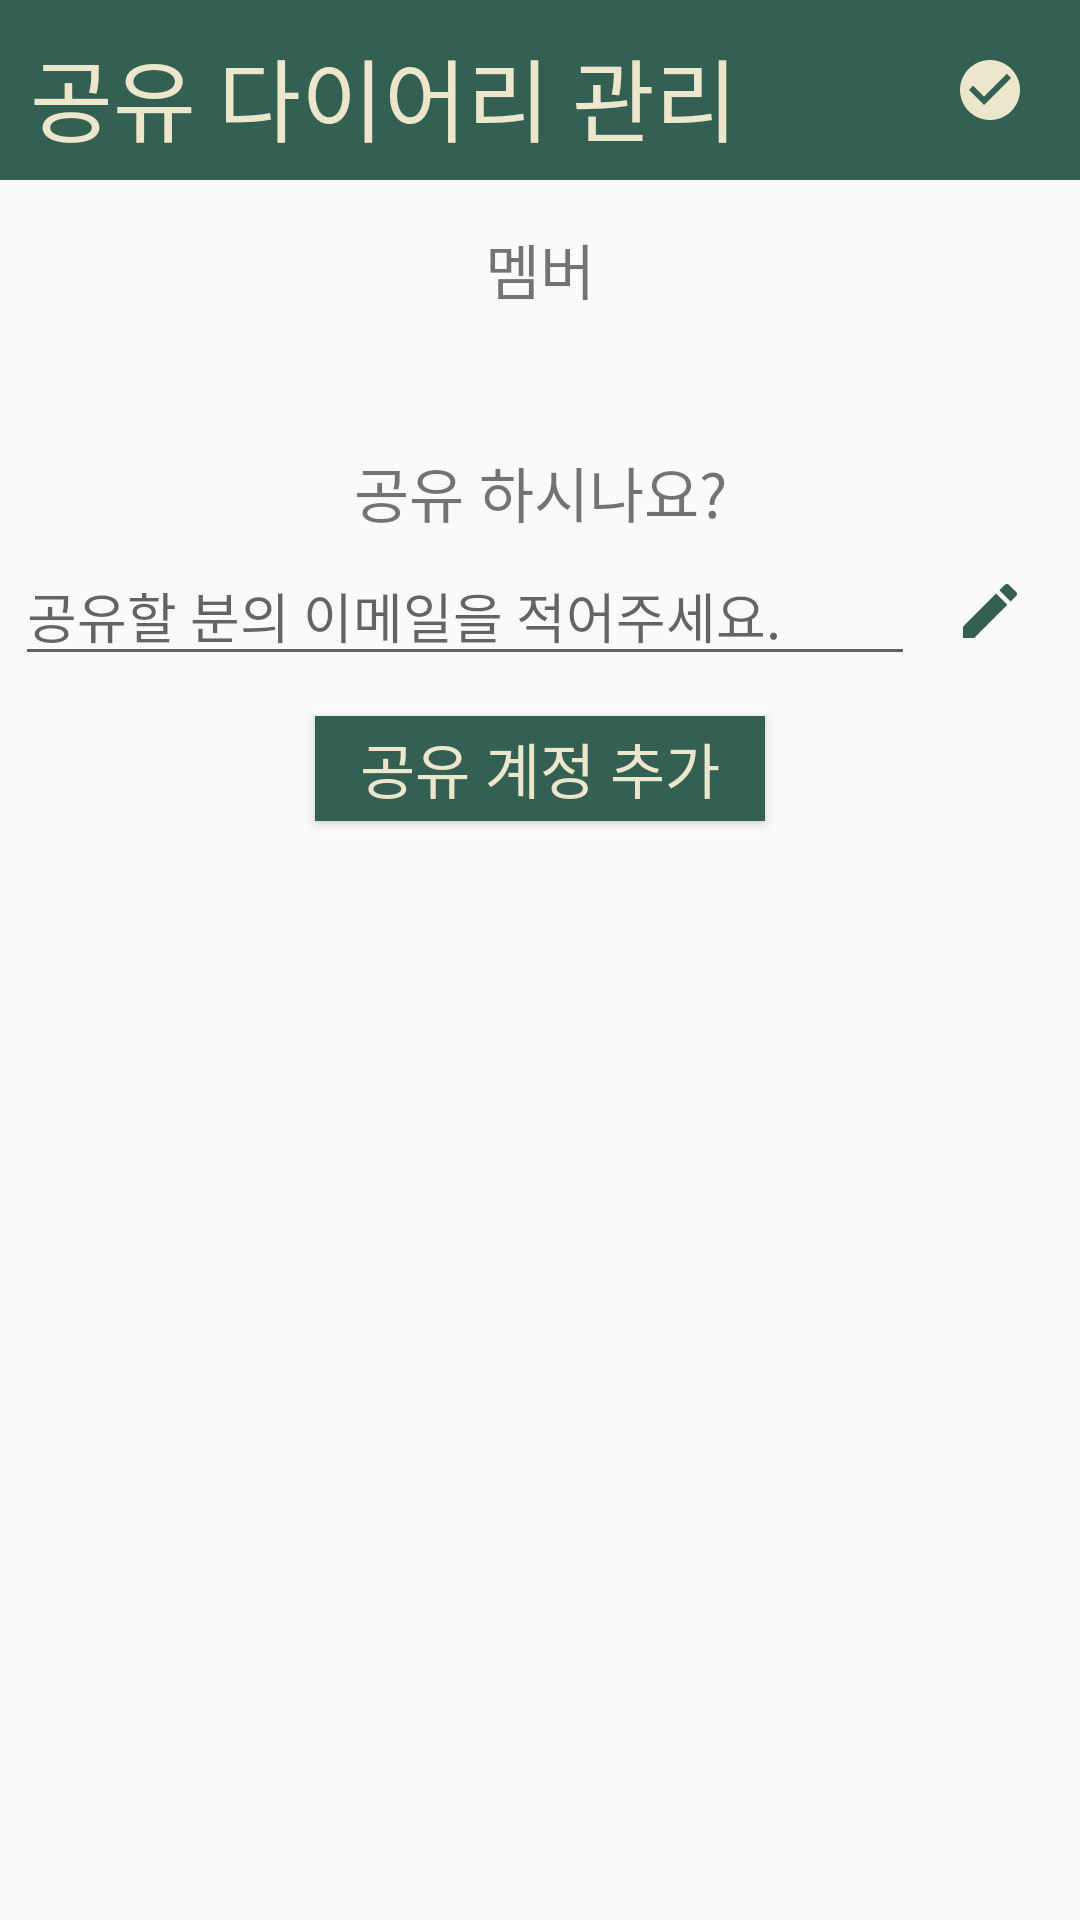

Icons on this 1080*1920 Android screen, each with its box as detection(x1, y1, x2, y2):
check circle: detection(960, 60, 1020, 120)
edit: detection(963, 584, 1017, 638)
